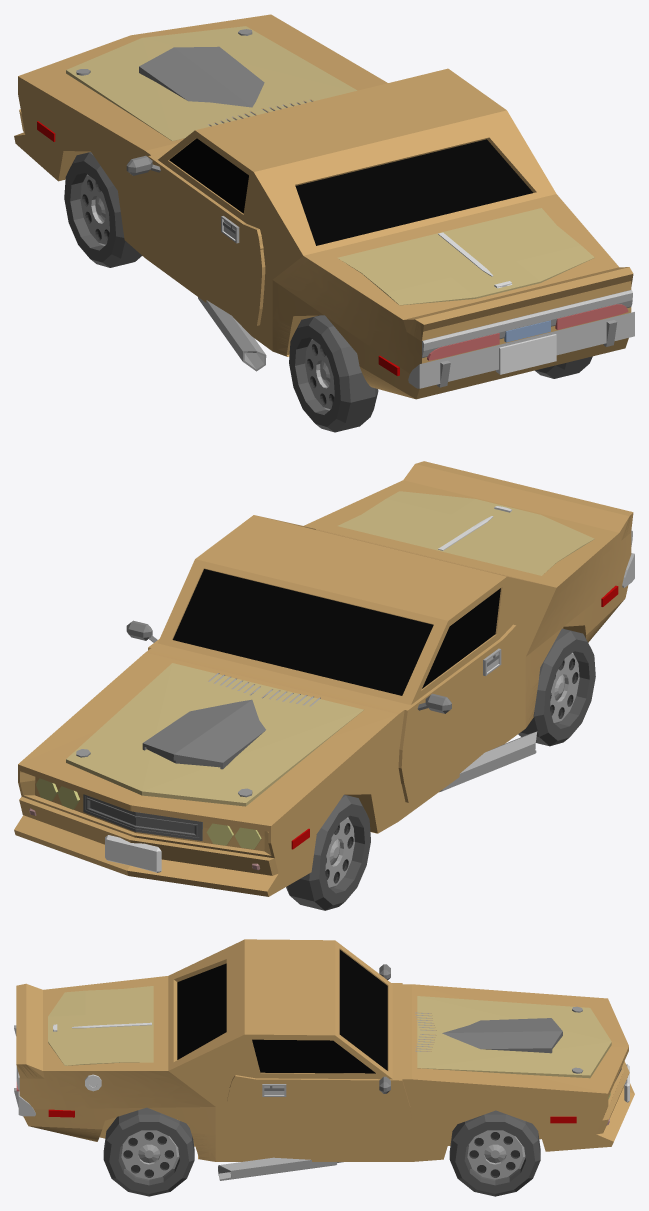
The model's file is macchinaGiocatore.fbx.
The picture shows the model from 3 angles, top to bottom: view 1: azimuth 30°, elevation 25°; view 2: azimuth 150°, elevation 25°; view 3: azimuth 270°, elevation 25°; orthographic projection. The views are drawn at different scales.
Visible parts, largest first — view 1: Cube_1_3, Cube_7_4, Cube_1, Cylinder_2_2, Cube_2_4, Cube_3_3, Cylinder_5, Cube_5_3, Cube_5_4, Cube_6_3, Cylinder_2_4, Cylinder_4_2 (+3 smaller); view 2: Cube_1_3, Cube_1, Cube_7_4, Cube_2_4, Cylinder_5, Cylinder_2_2, Cube_3_5, Cylinder_2_4, plate, Cylinder_4_2, Cylinder, Cylinder_3_2 (+4 smaller); view 3: Cube_1_3, Cube_1, Cube_7_4, Cylinder_2_2, Cylinder_5, Cube_2_4, Cylinder_4_2, Cylinder, Cylinder_2_4.
Boxes of the visible parts, left/top/right/bottom form: Cube_1_3: left=14, top=14, right=633, bottom=399; Cube_7_4: left=337, top=208, right=594, bottom=305; Cube_1: left=66, top=26, right=357, bottom=141; Cylinder_2_2: left=289, top=315, right=592, bottom=432; Cube_2_4: left=139, top=46, right=265, bottom=114; Cube_3_3: left=408, top=312, right=634, bottom=388; Cylinder_5: left=64, top=152, right=141, bottom=267; Cube_5_3: left=422, top=290, right=632, bottom=357; Cube_5_4: left=427, top=304, right=628, bottom=360; Cube_6_3: left=495, top=334, right=556, bottom=374; Cylinder_2_4: left=198, top=297, right=266, bottom=371; Cylinder_4_2: left=80, top=174, right=109, bottom=245; Cube_1_3: left=14, top=461, right=633, bottom=896; Cube_1: left=66, top=663, right=363, bottom=806; Cube_7_4: left=338, top=491, right=594, bottom=575; Cube_2_4: left=142, top=693, right=267, bottom=769; Cylinder_5: left=286, top=794, right=370, bottom=910; Cylinder_2_2: left=518, top=628, right=595, bottom=746; Cube_3_5: left=83, top=794, right=202, bottom=840; Cylinder_2_4: left=439, top=731, right=537, bottom=792; plate: left=105, top=835, right=161, bottom=872; Cylinder_4_2: left=325, top=817, right=354, bottom=888; Cylinder: left=550, top=652, right=579, bottom=724; Cylinder_3_2: left=555, top=651, right=589, bottom=728; Cube_1_3: left=16, top=939, right=634, bottom=1161; Cube_1: left=417, top=996, right=611, bottom=1078; Cube_7_4: left=48, top=986, right=153, bottom=1065; Cylinder_2_2: left=103, top=1107, right=194, bottom=1196; Cylinder_5: left=449, top=1110, right=540, bottom=1196; Cube_2_4: left=442, top=1018, right=562, bottom=1053; Cylinder_4_2: left=465, top=1130, right=525, bottom=1180; Cylinder: left=119, top=1130, right=179, bottom=1180; Cylinder_2_4: left=218, top=1157, right=343, bottom=1180.
Bounding box in the file's own units: 256 × 160 × 552.
